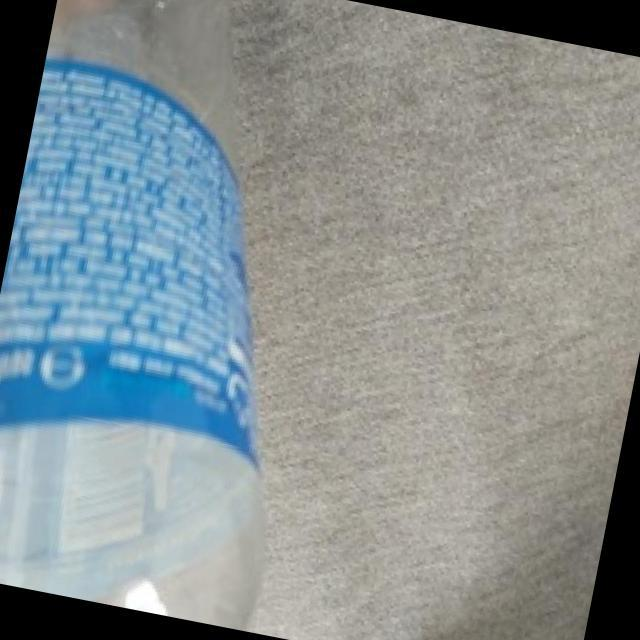good: (0, 0, 382, 634)
